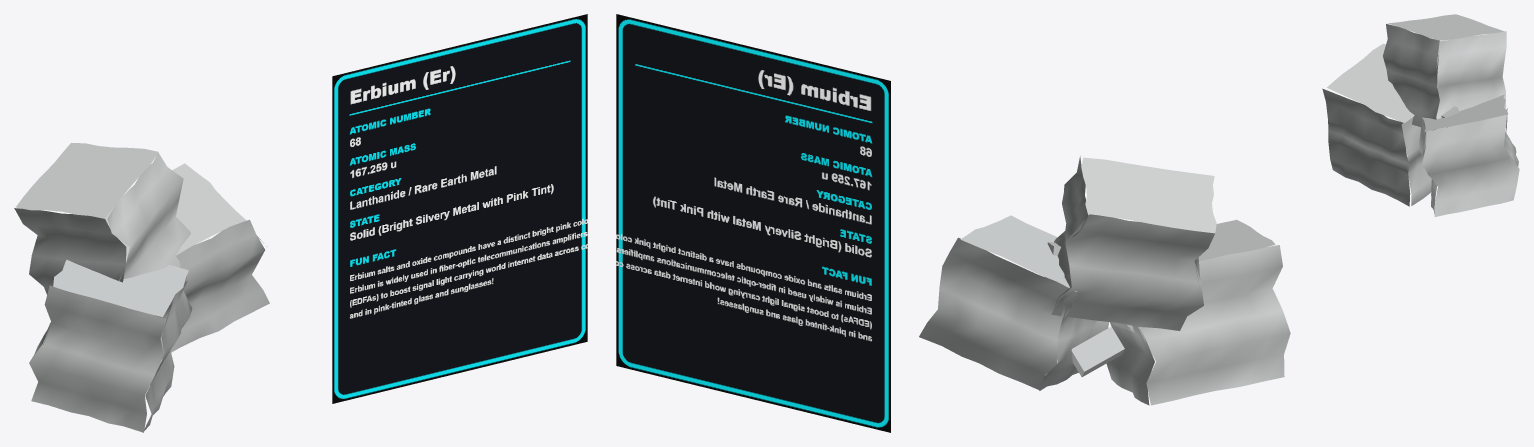
File: erbium.glb
3 views of the same model, side by side, from view 1: azimuth 30°, elevation 25°; view 2: azimuth 150°, elevation 25°; view 3: azimuth 270°, elevation 25° (orthographic). The views are drawn at different scales.
Visible parts, largest first — view 1: Mesh_10, Mesh_0, Mesh_1, Mesh_2; view 2: Mesh_10, Mesh_1, Mesh_2, Mesh_0, Mesh_8; view 3: Mesh_0, Mesh_1, Mesh_2.
Part boxes in pixels (box(x1,y1,x2,y2)): Mesh_10: box(332, 14, 587, 403); Mesh_0: box(29, 253, 192, 432); Mesh_1: box(14, 142, 192, 307); Mesh_2: box(105, 163, 269, 353); Mesh_10: box(616, 14, 890, 432); Mesh_1: box(1051, 156, 1216, 330); Mesh_2: box(919, 215, 1109, 390); Mesh_0: box(1106, 219, 1290, 405); Mesh_8: box(1071, 326, 1124, 376); Mesh_0: box(1322, 43, 1437, 206); Mesh_1: box(1383, 14, 1506, 130); Mesh_2: box(1419, 94, 1519, 216).
Bounding box in the file's own units: 2.65 × 1.4 × 0.9873.
2 materials, 1 textured.
